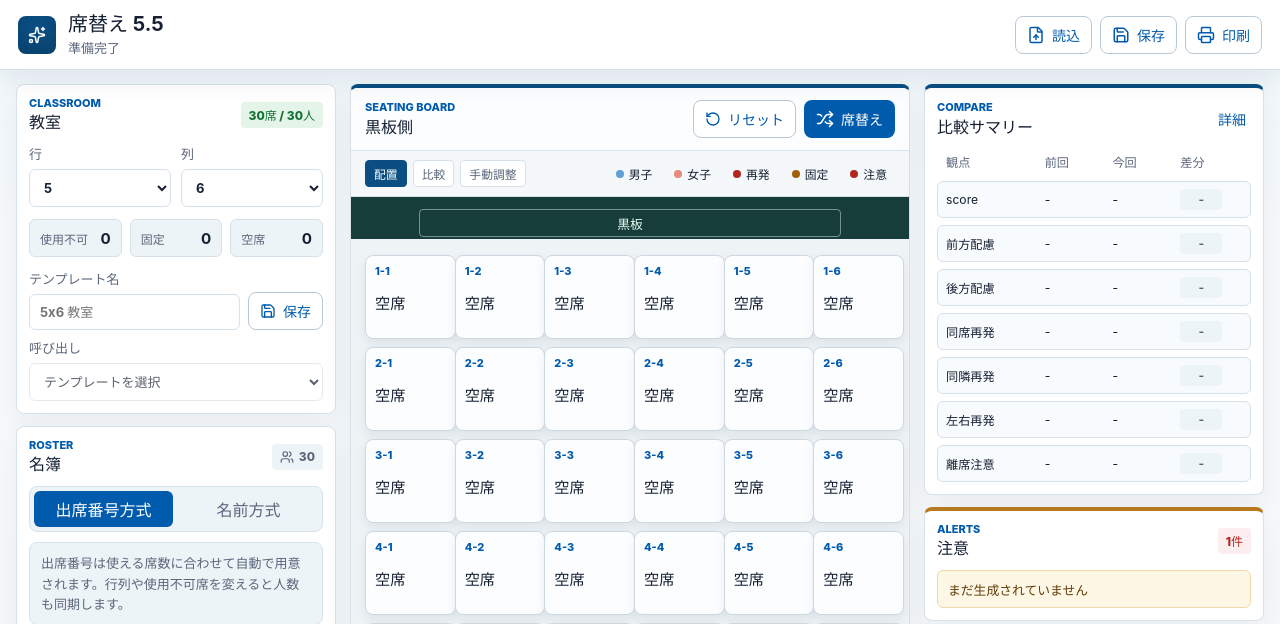
Test: App › allows a generated seat to be swapped manually
Click the button with test id "generate-button" at (850, 119), box [804, 100, 895, 138]
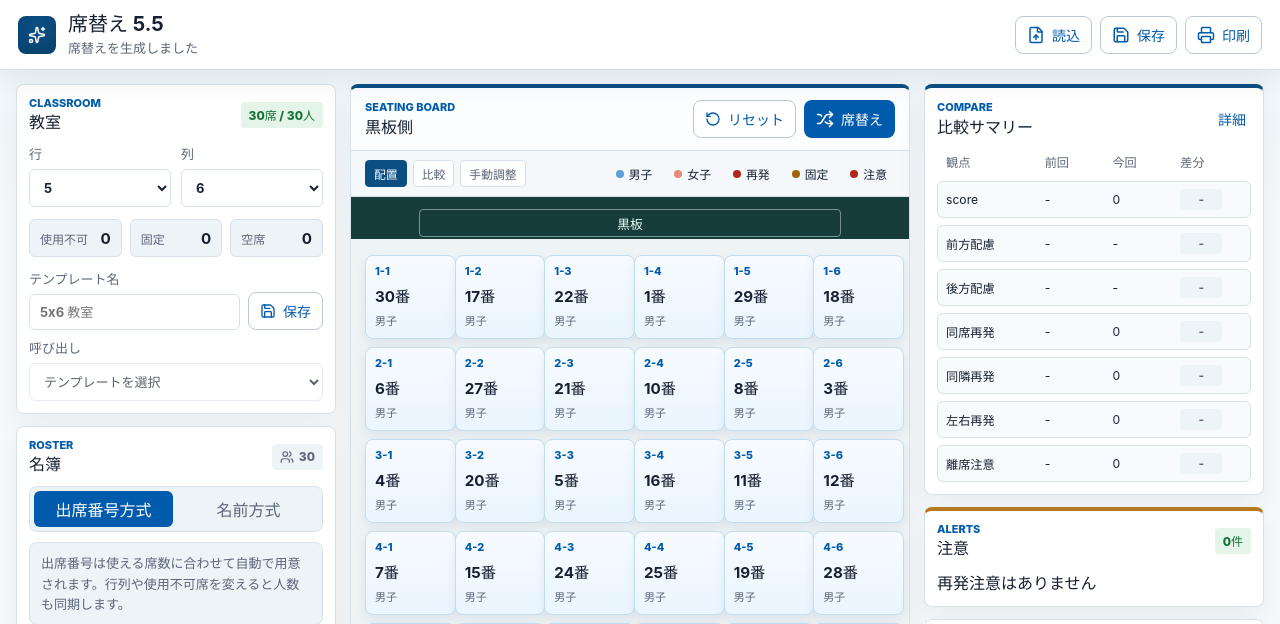
Click the button titled "1行 1列" at (410, 297), box [365, 255, 456, 339]
(page scrolled)
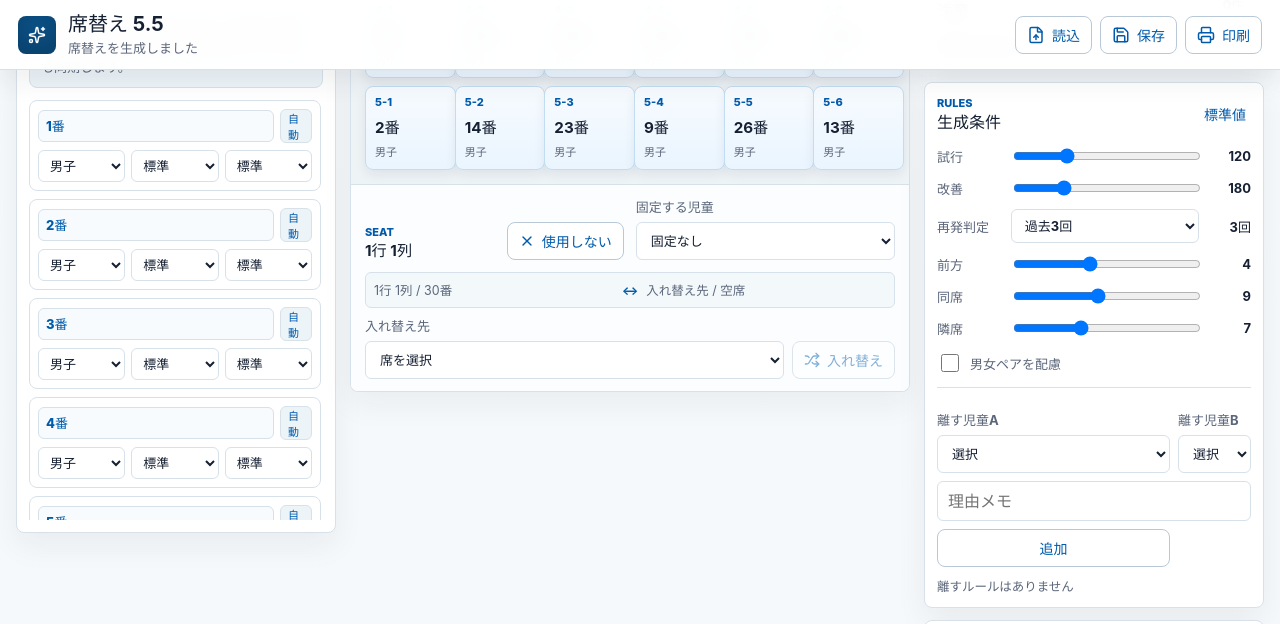
Select "1行 2列 / 17番" in the dropdown labelled "入れ替え先" at (574, 360), box [365, 341, 784, 379]
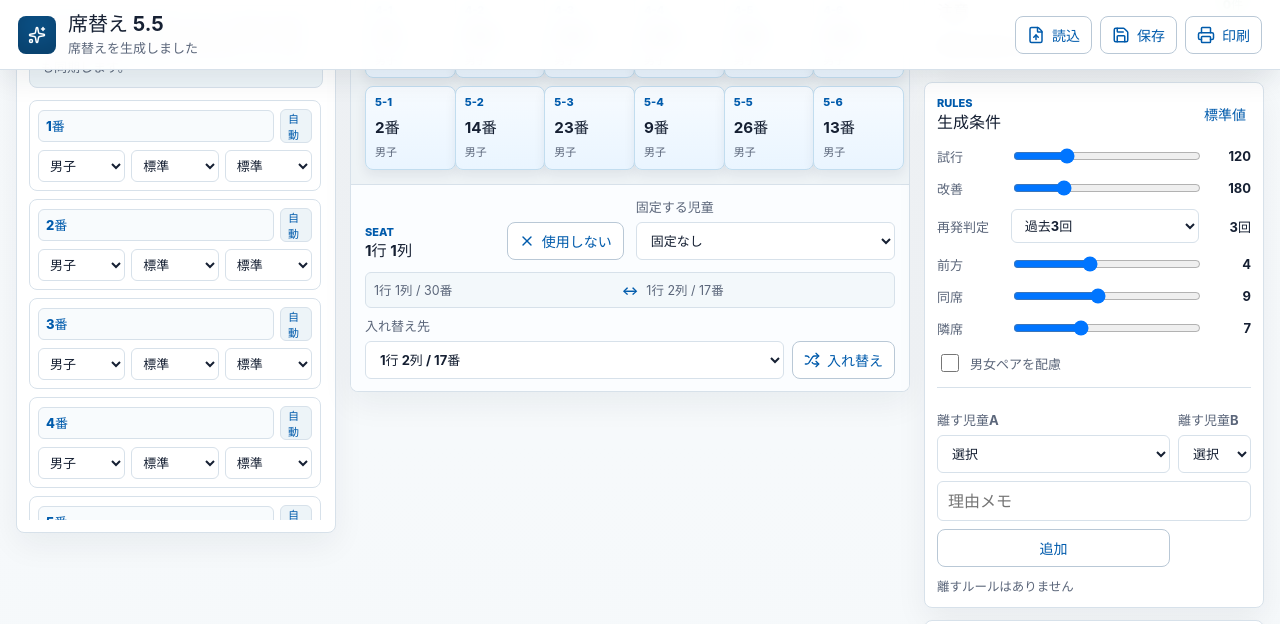
Click the button "入れ替え" at (844, 360), box [792, 341, 895, 379]
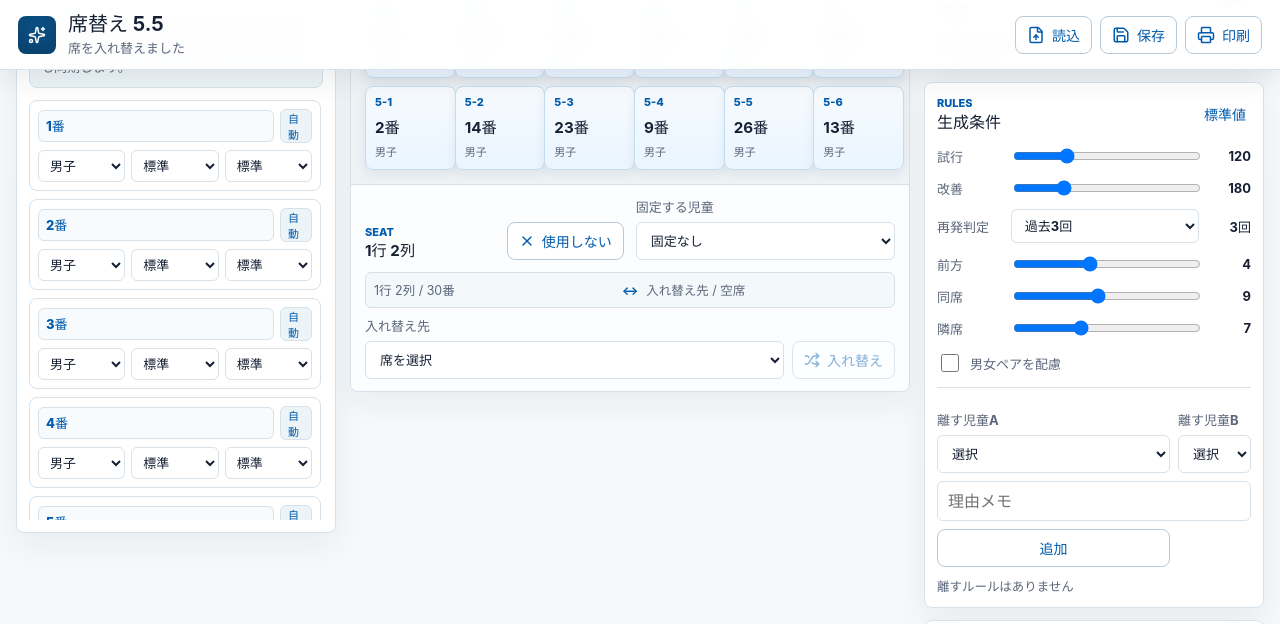
Now the text "席を入れ替えました" is shown, box [68, 38, 185, 57]
